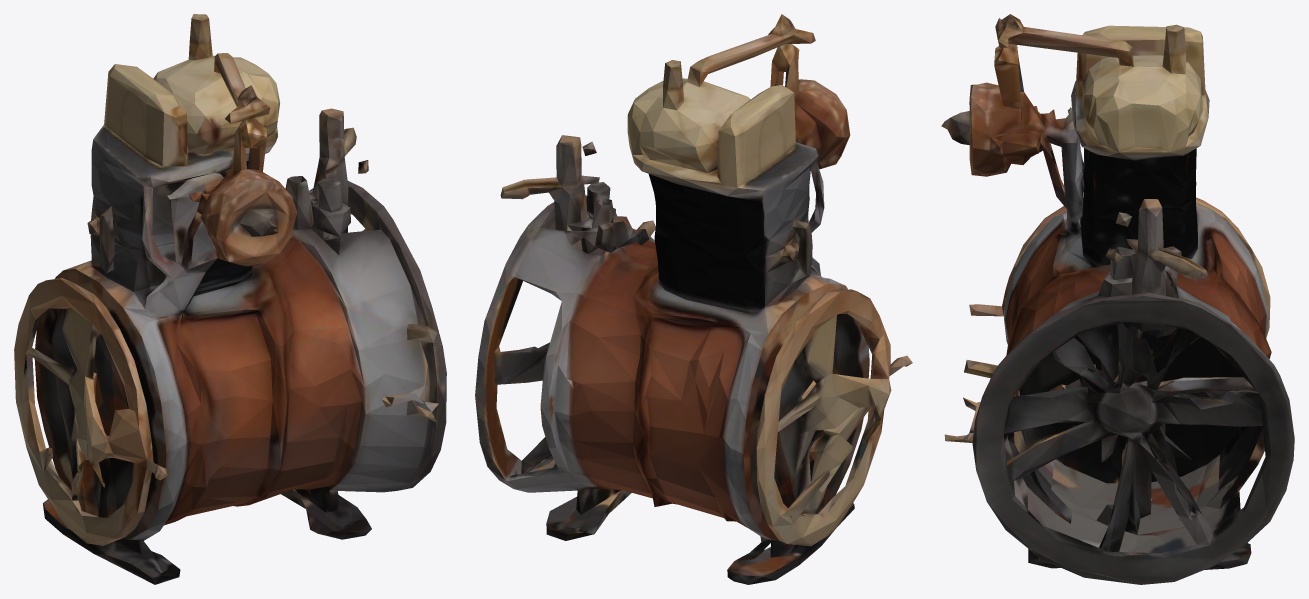
The model's file is bellows_engine.glb.
3 views of the same model, side by side, from view 1: azimuth 30°, elevation 25°; view 2: azimuth 150°, elevation 25°; view 3: azimuth 270°, elevation 25° (orthographic). The views are drawn at different scales.
Visible parts, largest first — view 1: textured_mesh.obj; view 2: textured_mesh.obj; view 3: textured_mesh.obj.
Part boxes in pixels (<box>): textured_mesh.obj: <box>14,14,446,584</box>; textured_mesh.obj: <box>475,14,912,584</box>; textured_mesh.obj: <box>941,14,1294,584</box>.
Bounding box in the file's own units: 1.29 × 1.8 × 1.18.
1 material, 1 textured.
